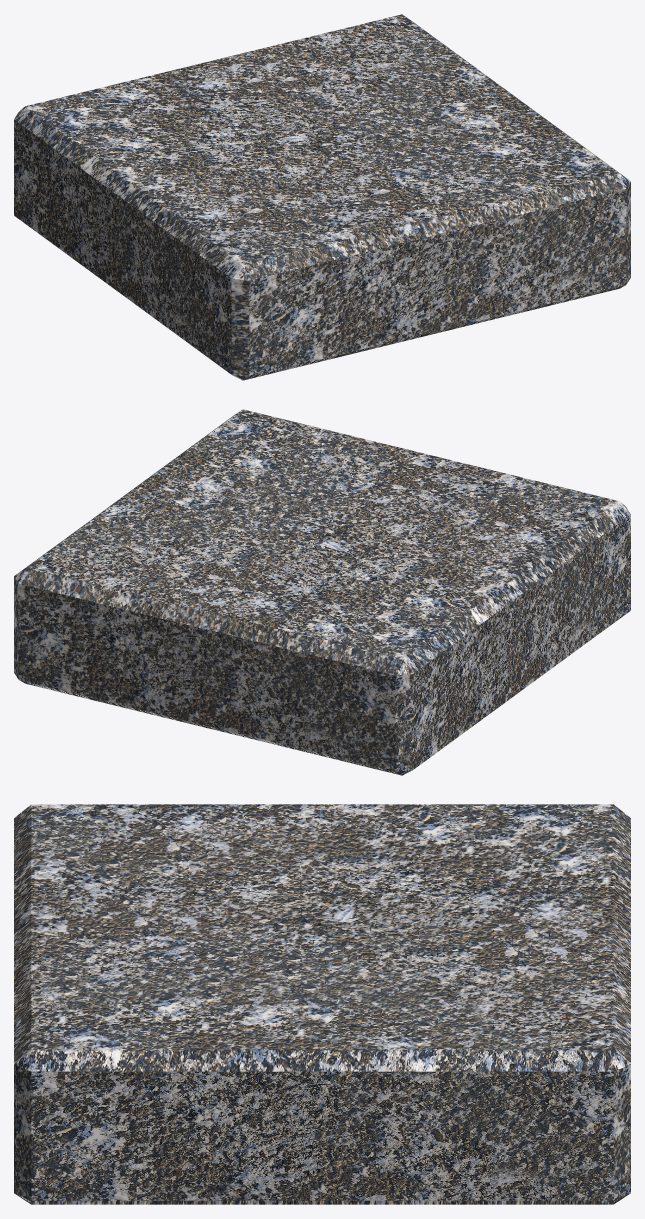
Rendered from StoneSidewalk.fbx.
The picture shows the model from 3 angles, top to bottom: view 1: azimuth 30°, elevation 25°; view 2: azimuth 150°, elevation 25°; view 3: azimuth 270°, elevation 25°; orthographic projection. The views are drawn at different scales.
Visible parts, largest first — view 1: Cube.019; view 2: Cube.019; view 3: Cube.019.
Boxes of the visible parts, bbox=[...] form: Cube.019: bbox=[14, 14, 630, 380]; Cube.019: bbox=[14, 409, 630, 775]; Cube.019: bbox=[14, 804, 630, 1204].
Bounding box in the file's own units: 200 × 55.05 × 200.
